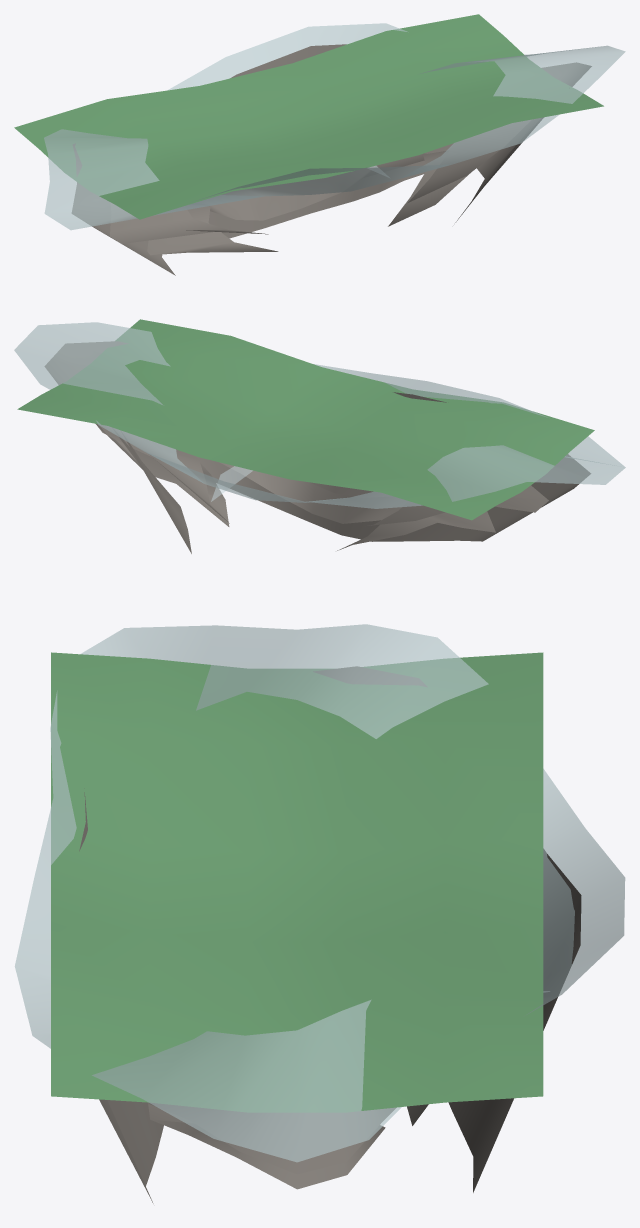
Rendered from island_impostors.gltf.
3 views of the same model, one above another, from view 1: azimuth 30°, elevation 25°; view 2: azimuth 150°, elevation 25°; view 3: azimuth 270°, elevation 25° (orthographic). The views are drawn at different scales.
Visible parts, largest first — view 1: Authored terrain relief surface, hazy far rim, distant underside silhouette, broken far cliff shelf, far shadow shelf; view 2: Authored terrain relief surface, hazy far rim, distant underside silhouette, broken far cliff shelf, far shadow shelf, far waterfall veil strip; view 3: Authored terrain relief surface, hazy far rim, distant underside silhouette, far shadow shelf, broken far cliff shelf.
Boxes of the visible parts, x1,y1,x2,y2 form: Authored terrain relief surface: (14,14,603,219); hazy far rim: (44,23,625,230); distant underside silhouette: (72,44,591,275); broken far cliff shelf: (147,151,470,255); far shadow shelf: (110,120,530,243); Authored terrain relief surface: (17,319,594,520); hazy far rim: (14,322,625,508); distant underside silhouette: (44,341,590,553); broken far cliff shelf: (134,449,495,550); far shadow shelf: (97,424,548,525); far waterfall veil strip: (211,466,252,501); Authored terrain relief surface: (51,652,543,1112); hazy far rim: (15,624,625,1162); distant underside silhouette: (79,666,581,1203); far shadow shelf: (147,1102,395,1174); broken far cliff shelf: (148,1103,428,1189).
Bounding box in the file's own units: 4.02 × 1.1 × 1.86.
